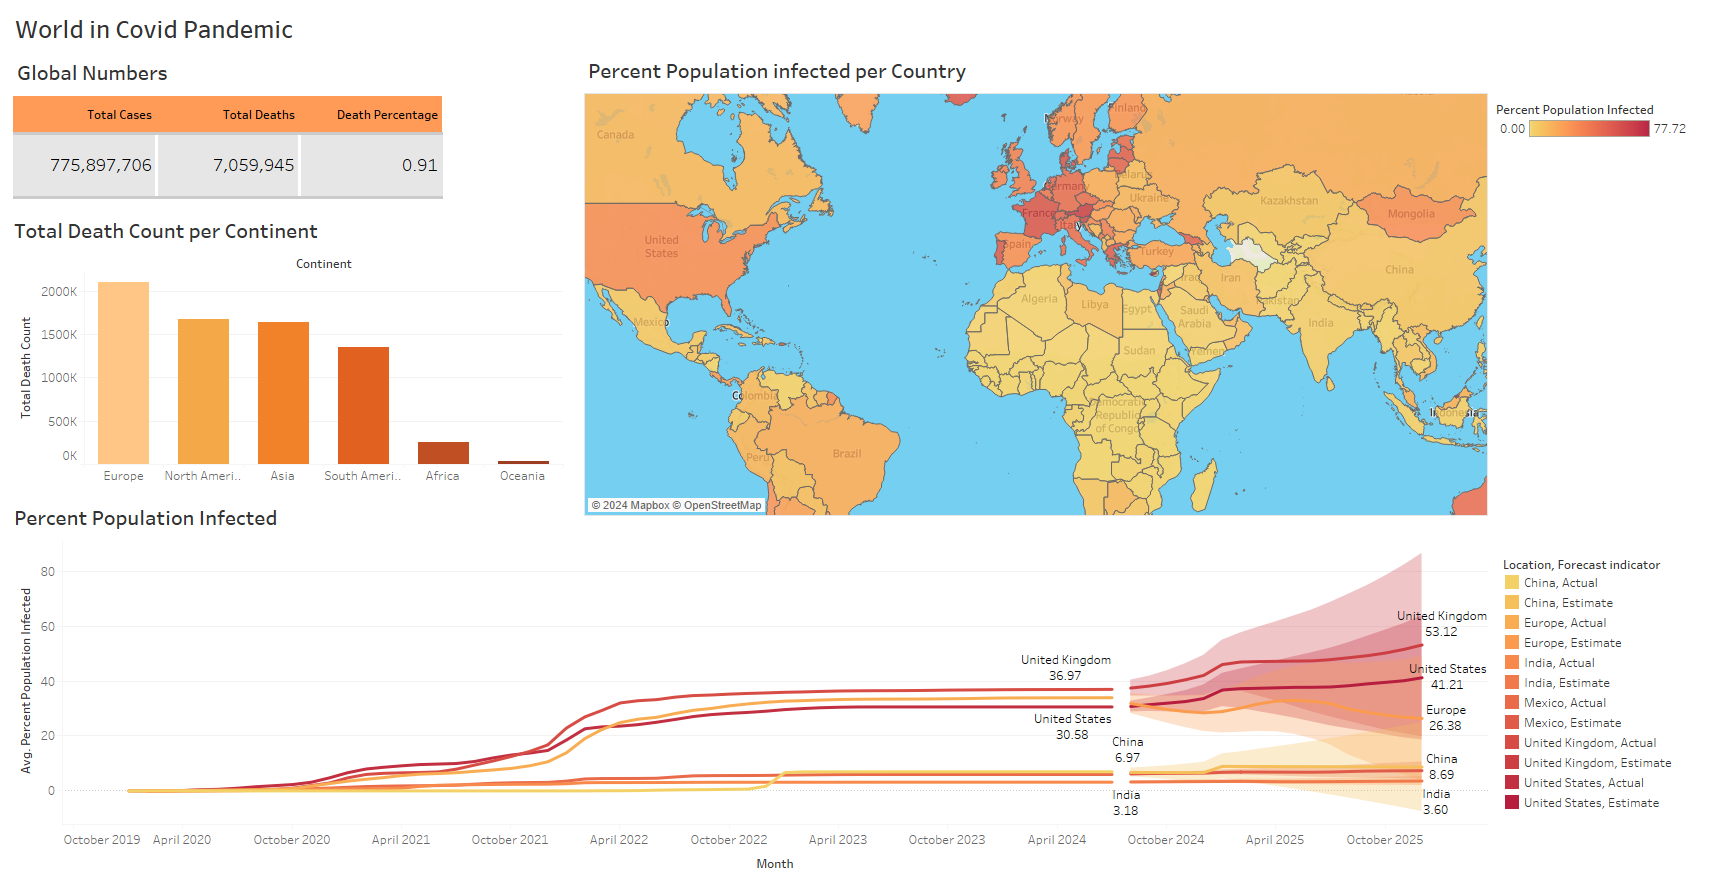

The dashboard page shown, as its layout file describes it:
{"tool":"tableau","page":{"name":"Dashboard 1","canvas":[1000,1000],"units":"permille","ordinal":0},"visuals":[{"type":"title","box":[4.7,9.3,990.6,47.9]},{"type":"worksheet","title":"Percent population infected across World","mark":"Automatic","box":[341.7,56.1,529,519.9]},{"type":"worksheet","title":"Global Numbers","mark":"Automatic","box":[7,58.4,327.7,183.4]},{"type":"legend","title":"Percent population infected across World","param":"[federated.0os0c82164chki1eaa4kf1jd3srd].[sum:PercentPopulationInfected:qk]","box":[875.4,108.6,114.1,79.4]},{"type":"worksheet","title":"Total Death count per Continent","mark":"Automatic","rows":["TotalDeathCount"],"cols":["location"],"box":[5.9,234.8,323.6,307.2]},{"type":"worksheet","title":"Avg. Percent population Infected filtered","mark":"Automatic","rows":["PercentPopulationInfected"],"cols":["date"],"box":[5.9,554.9,864.8,426.4]},{"type":"legend","title":"Avg. Percent population Infected filtered","param":"[federated.12dftzf1ppg4xm12vdi4r1s5s26r].[none:Location:nk]\n[federated.12dftzf1p","box":[878.9,618,101.8,301.4]}]}

Visuals, with their boxes on the dashboard's canvas, which has no fixed pixel size, in thousandths of its width and height (x1, y1, x2, y2). These are canvas units, not pixel positions in the 1709x896 screenshot, which may show the page scaled, cropped or inside an application window:
title: [5,9,995,57]
"Percent population infected across World" worksheet: [342,56,871,576]
"Global Numbers" worksheet: [7,58,335,242]
"Percent population infected across World" legend: [875,109,990,188]
"Total Death count per Continent" worksheet: [6,235,330,542]
"Avg. Percent population Infected filtered" worksheet: [6,555,871,981]
"Avg. Percent population Infected filtered" legend: [879,618,981,919]
